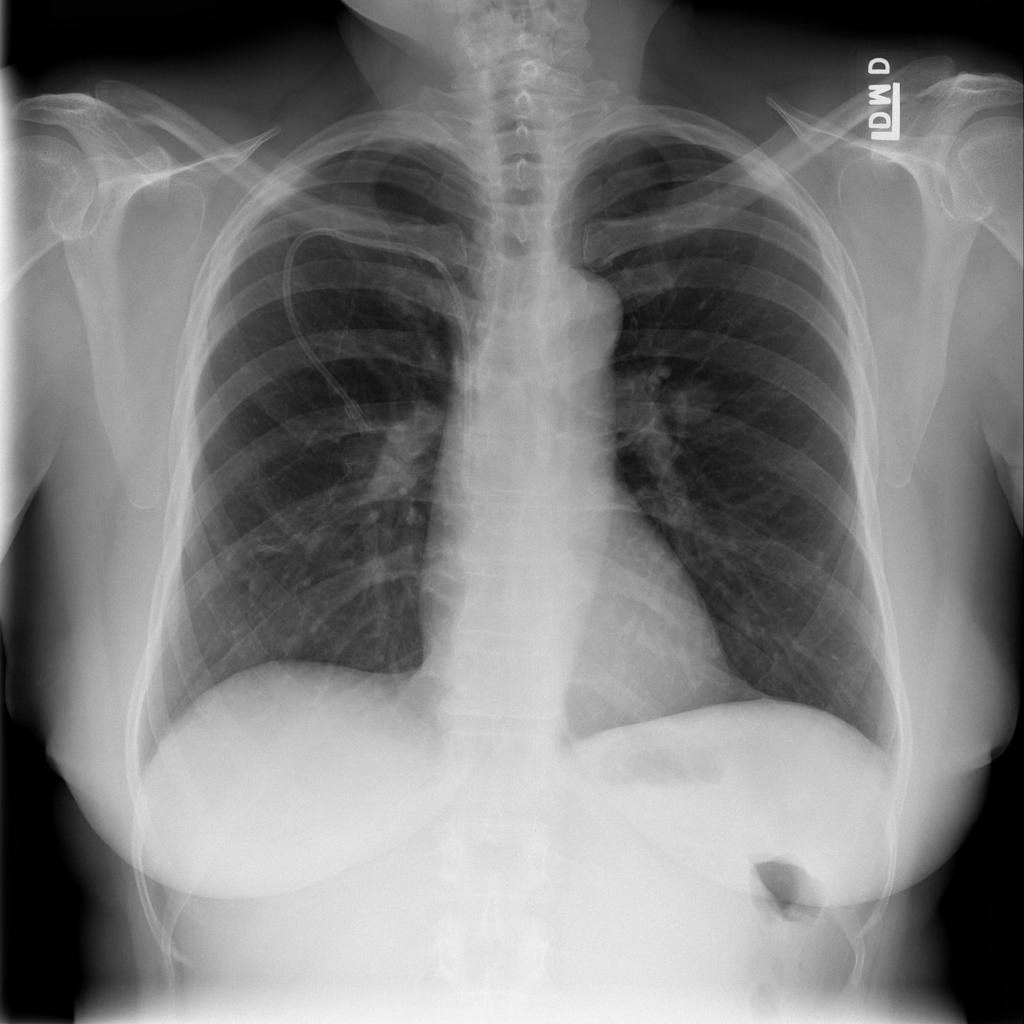nodule: (654, 365, 732, 434)
